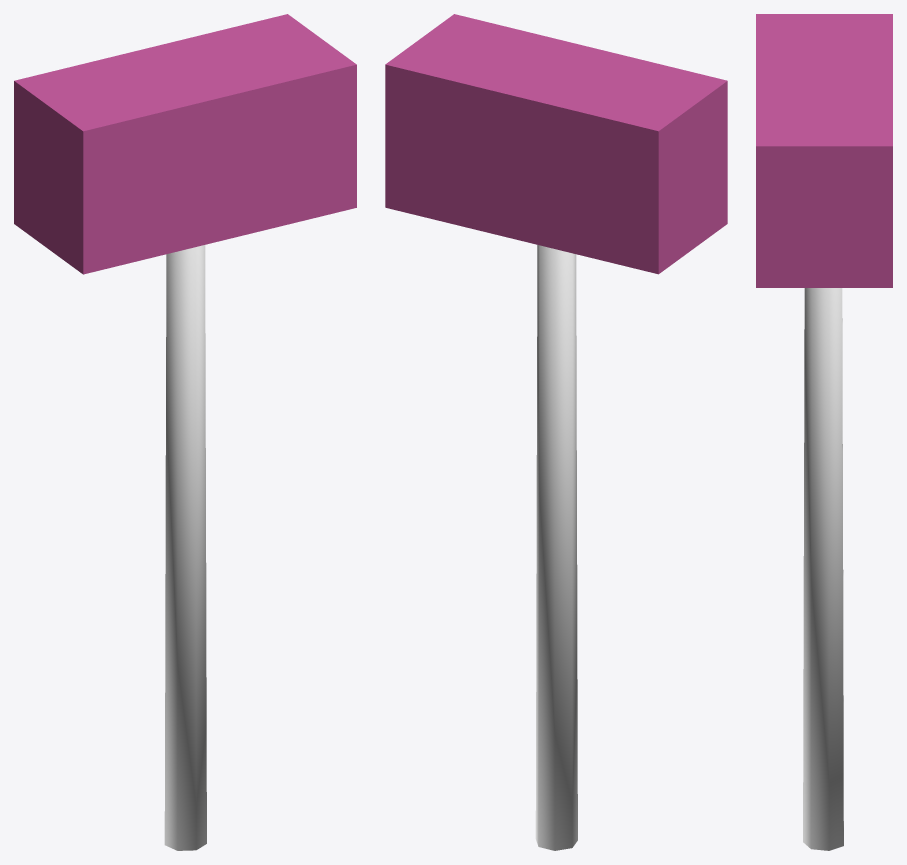
File: orichalcum_hammer.glb
The picture shows the model from 3 angles, left to right: view 1: azimuth 30°, elevation 25°; view 2: azimuth 150°, elevation 25°; view 3: azimuth 270°, elevation 25°; orthographic projection.
Parts seen in each view (by area): view 1: orichalcum_hammer_v0; view 2: orichalcum_hammer_v0; view 3: orichalcum_hammer_v0.
Part boxes in pixels (x1,y1,x2,y2): orichalcum_hammer_v0: (14,14,356,850); orichalcum_hammer_v0: (385,14,727,850); orichalcum_hammer_v0: (756,14,892,850).
Size of the model in its own units: 0.32 by 0.86 by 0.14.
